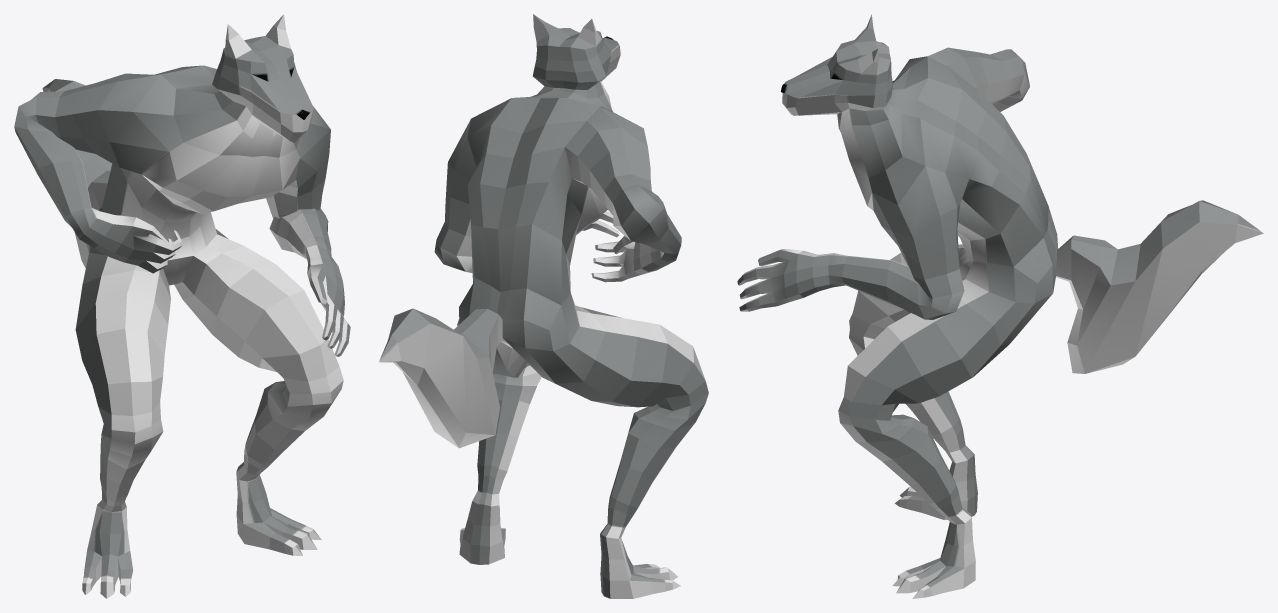
File: WolfIdle_(97).obj
3 views of the same model, side by side, from view 1: azimuth 30°, elevation 25°; view 2: azimuth 150°, elevation 25°; view 3: azimuth 270°, elevation 25° (orthographic). The views are drawn at different scales.
Parts seen in each view (by area): view 1: Box001; view 2: Box001; view 3: Box001.
Boxes of the visible parts, box(x1,y1,x2,y2) form: Box001: box(14, 14, 350, 598); Box001: box(379, 14, 708, 598); Box001: box(737, 14, 1263, 598).
Bounding box in the file's own units: 67.56 × 132 × 118.
